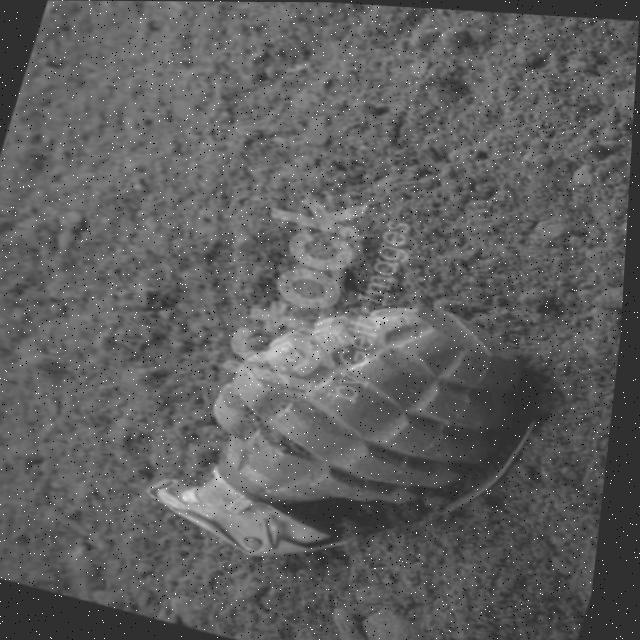grenade: (118, 243, 582, 620)
